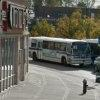Bus: (30, 29, 91, 70)
